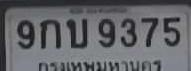3: (120, 17, 136, 46)
5: (162, 16, 179, 46)
7: (140, 16, 157, 46)
9: (16, 19, 34, 48), (98, 17, 114, 47)
A01: (39, 18, 60, 48)
A26: (66, 17, 87, 48)
